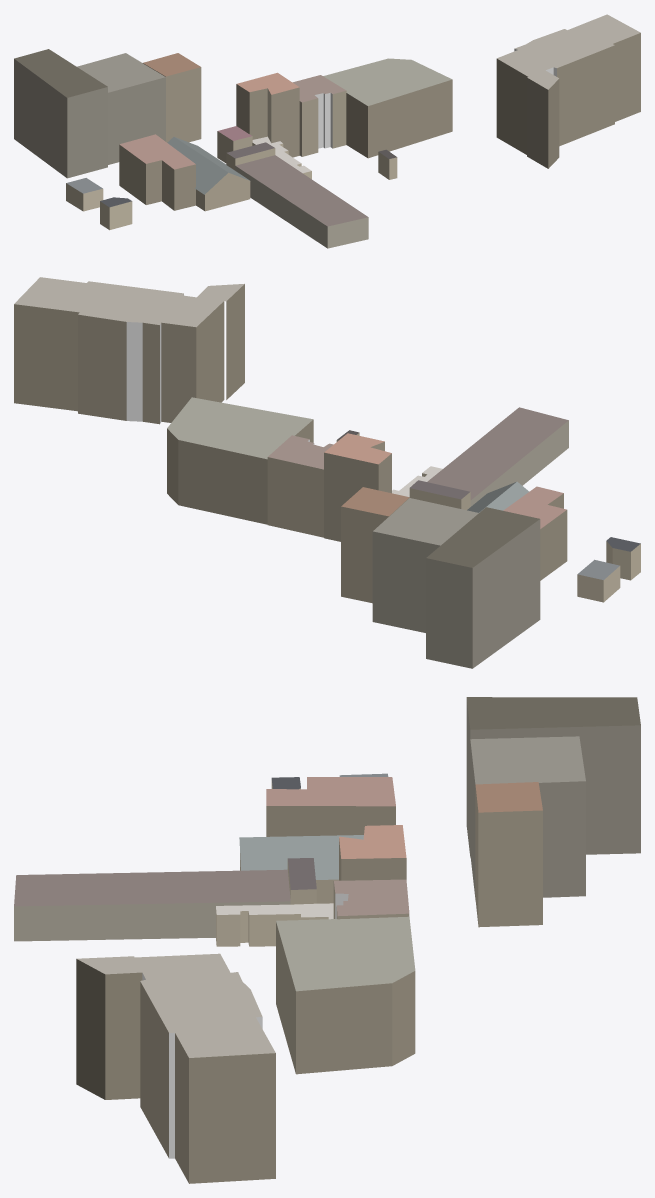
The picture shows the model from 3 angles, top to bottom: view 1: azimuth 30°, elevation 25°; view 2: azimuth 150°, elevation 25°; view 3: azimuth 270°, elevation 25°; orthographic projection. The views are drawn at different scales.
Parts seen in each view (by area): view 1: tuile; view 2: tuile; view 3: tuile.
Boxes of the visible parts, x1,y1,x2,y2 form: tuile: [14, 14, 640, 248]; tuile: [14, 277, 640, 668]; tuile: [14, 697, 640, 1183].
Size of the model in its own units: 127 by 22.03 by 84.51.
